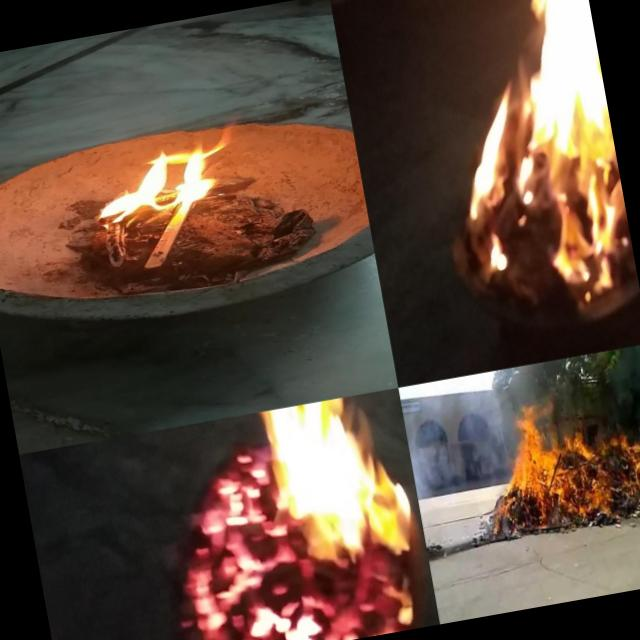fire: (427, 0, 630, 265), (248, 386, 440, 640), (153, 430, 286, 640), (56, 109, 242, 232), (493, 395, 640, 536)
smoke: (400, 379, 503, 501), (482, 367, 524, 421)
